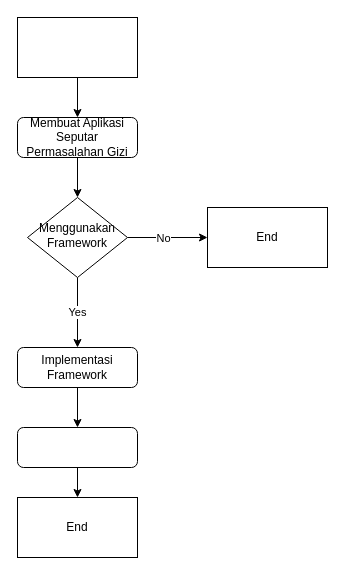
Image size: 345x575. Some labels were removed from this diagram. Each missing label, with the box of its shape:
Menggunakan Fungsi Fungsi yang sudah ada: (16, 426, 138, 468)
Start: (16, 16, 138, 78)
